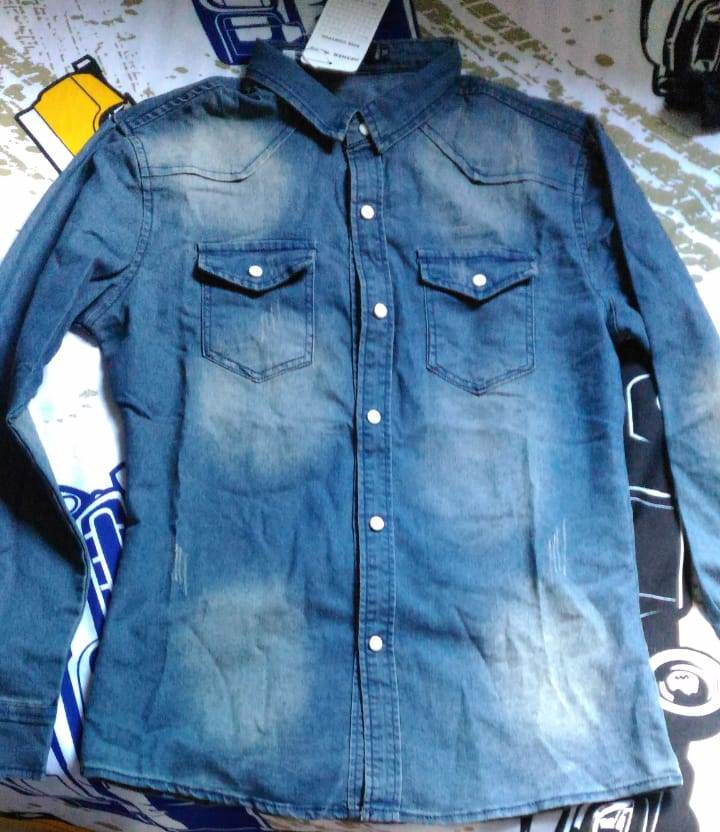shirts: (35, 39, 720, 816)
